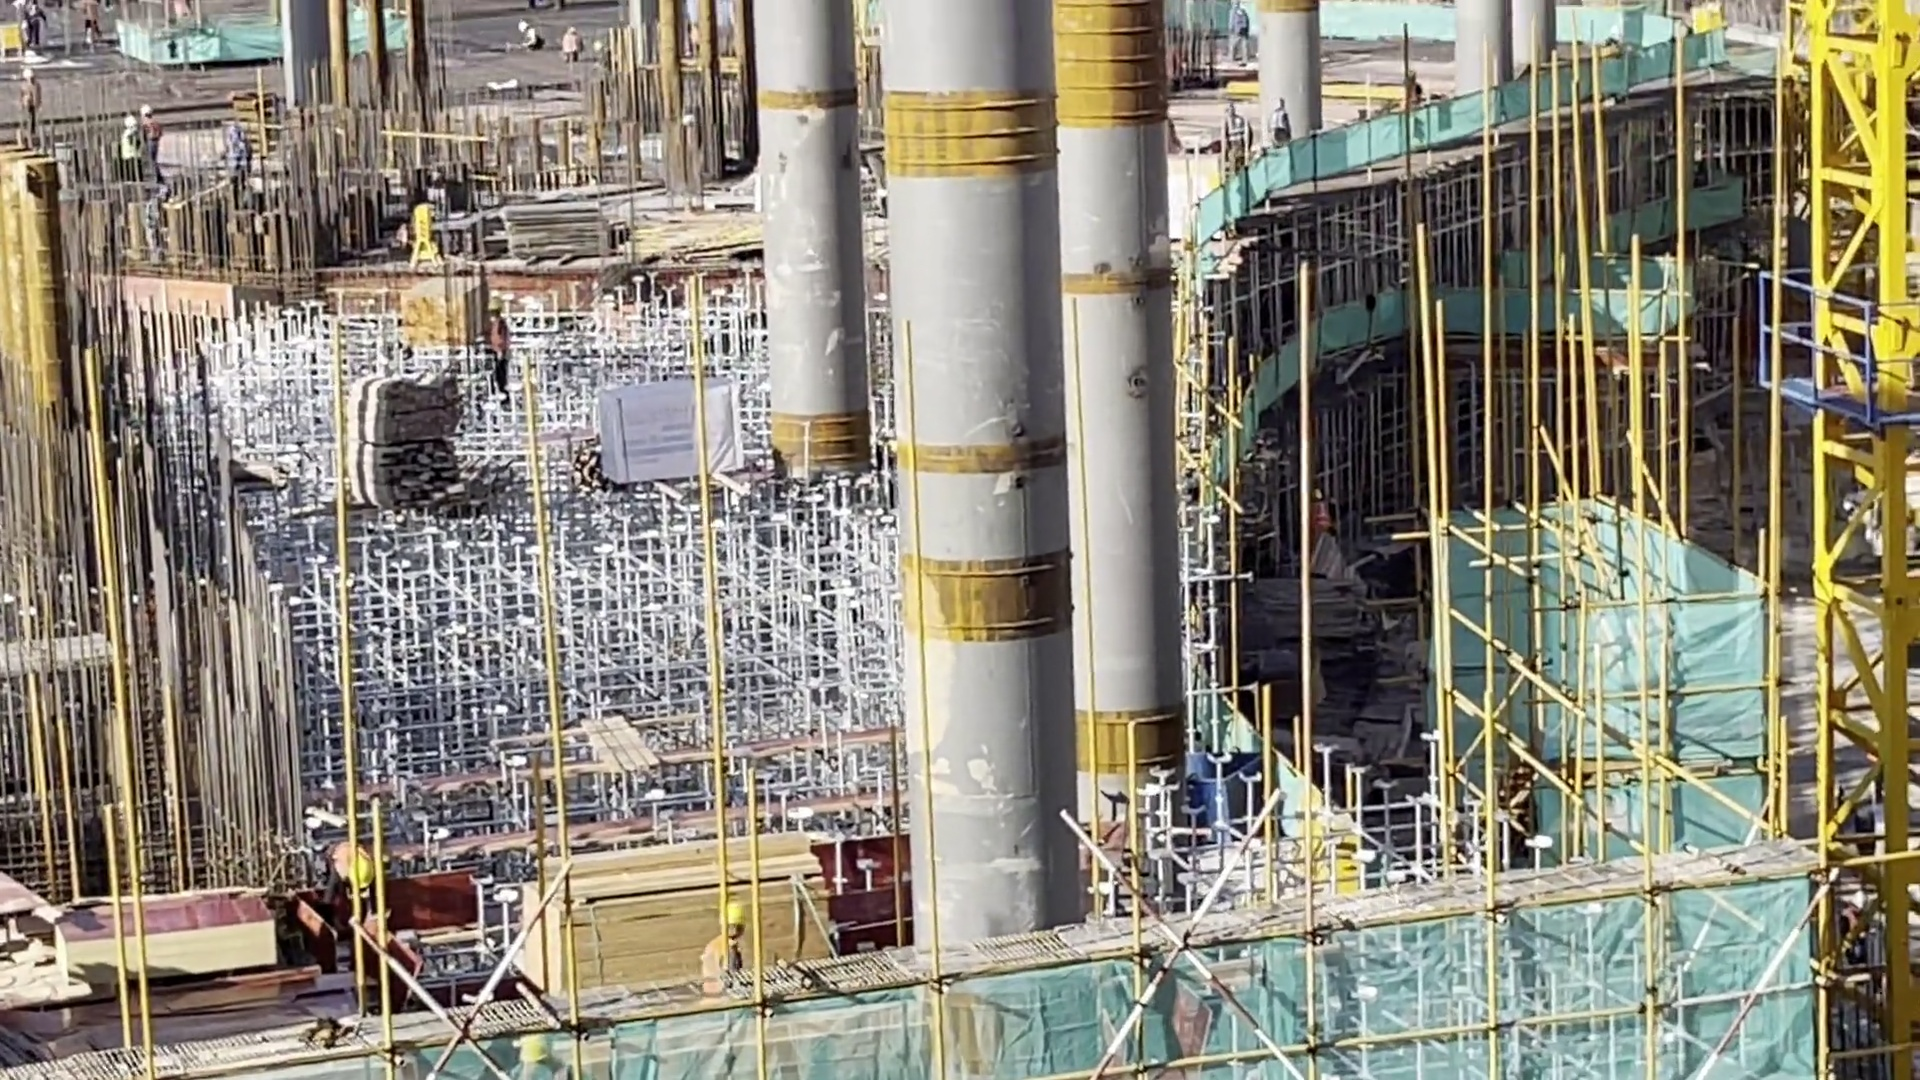helmet: (708, 889, 758, 952), (328, 849, 380, 902)
person: (312, 841, 408, 949), (699, 898, 770, 991)
vest: (704, 934, 748, 983)
